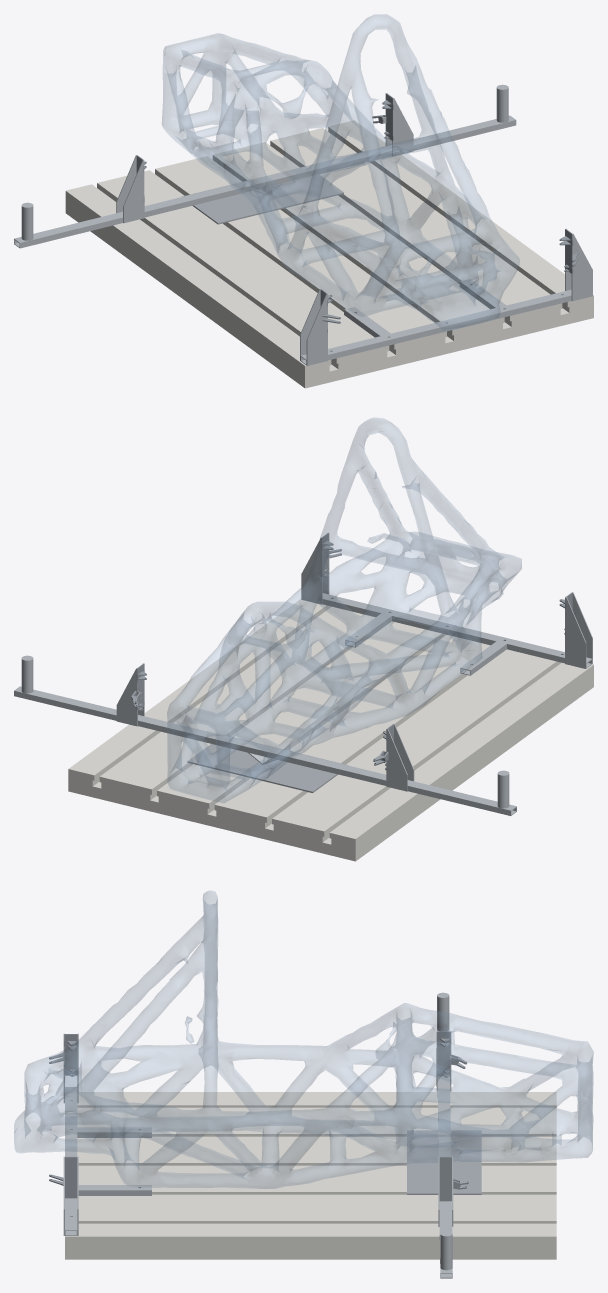
File: torsion-jig.glb
The picture shows the model from 3 angles, top to bottom: view 1: azimuth 30°, elevation 25°; view 2: azimuth 150°, elevation 25°; view 3: azimuth 270°, elevation 25°; orthographic projection. The views are drawn at different scales.
Visible parts, largest first — view 1: Platform, Chassis outline, Front lever beam, Rear fixture, Pivot plate, Rear mock upright faces, Front mock upright faces; view 2: Platform, Chassis outline, Front lever beam, Rear fixture, Pivot plate, Front mock upright faces; view 3: Platform, Chassis outline, Pivot plate, Rear fixture, Front lever beam, Front mock upright faces, Rear mock upright faces.
Boxes of the visible parts, left/top/right/bottom form: Platform: left=65, top=120, right=593, bottom=388; Chassis outline: left=162, top=14, right=519, bottom=330; Front lever beam: left=14, top=84, right=516, bottom=248; Rear fixture: left=300, top=228, right=592, bottom=365; Pivot plate: left=182, top=174, right=343, bottom=224; Rear mock upright faces: left=320, top=229, right=578, bottom=332; Front mock upright faces: left=136, top=93, right=393, bottom=202; Platform: left=68, top=599, right=593, bottom=861; Chassis outline: left=167, top=417, right=521, bottom=802; Front lever beam: left=14, top=655, right=516, bottom=815; Rear fixture: left=301, top=532, right=592, bottom=675; Pivot plate: left=187, top=735, right=348, bottom=792; Front mock upright faces: left=131, top=664, right=393, bottom=770; Platform: left=65, top=1092, right=556, bottom=1259; Chassis outline: left=14, top=890, right=593, bottom=1188; Pivot plate: left=407, top=1130, right=481, bottom=1194; Rear fixture: left=63, top=1033, right=151, bottom=1235; Front lever beam: left=436, top=992, right=453, bottom=1278; Front mock upright faces: left=436, top=1031, right=468, bottom=1201; Rear mock upright faces: left=49, top=1034, right=78, bottom=1198.
Size of the model in its own units: 2.41 by 1.33 by 2.37.
